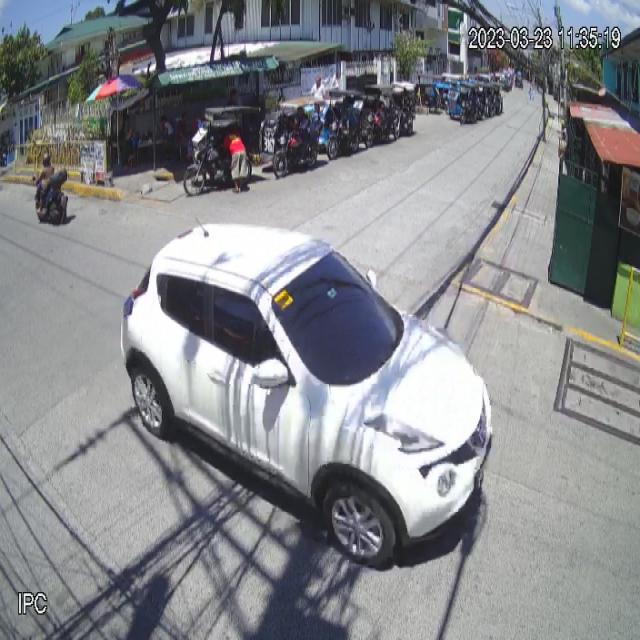Car: (120, 220, 493, 570)
